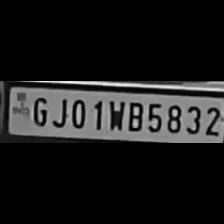0: (68, 95, 88, 129)
1: (88, 96, 104, 130)
2: (202, 102, 220, 136)
3: (182, 102, 200, 134)
5: (144, 99, 162, 134)
8: (164, 100, 182, 134)
B: (124, 98, 144, 132)
G: (28, 92, 48, 125)
J: (50, 92, 68, 128)
W: (104, 97, 124, 131)
